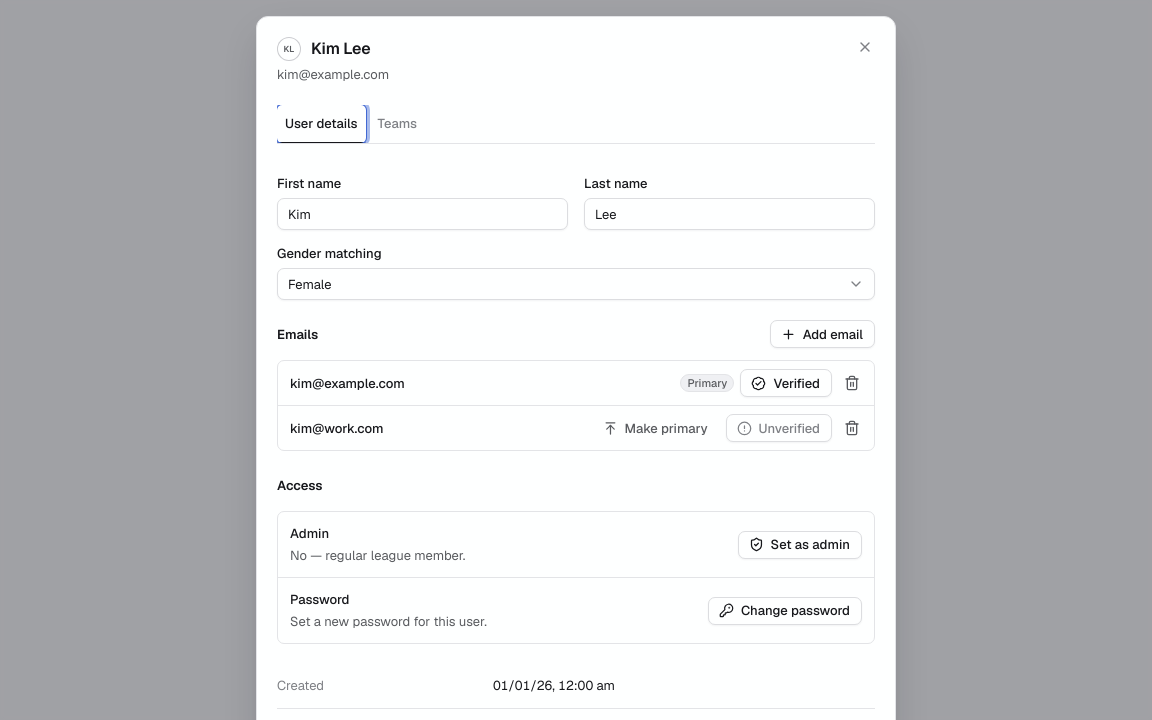
Test: UserDialog access › promotes a user to admin
expect the text "No — regular league member." is shown: met, box [290,547,466,564]
Click the button "Set as admin" at (800, 545), box [738,531,862,559]
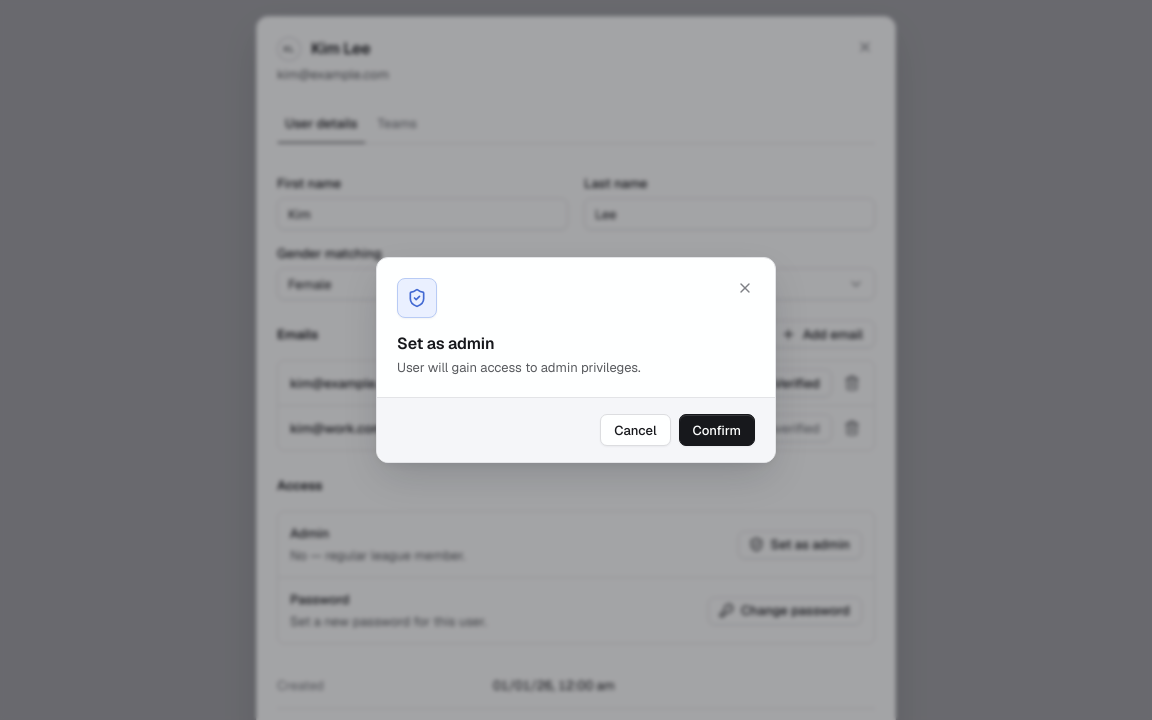
Click the button "Confirm" at (717, 430), box [679,414,755,446]
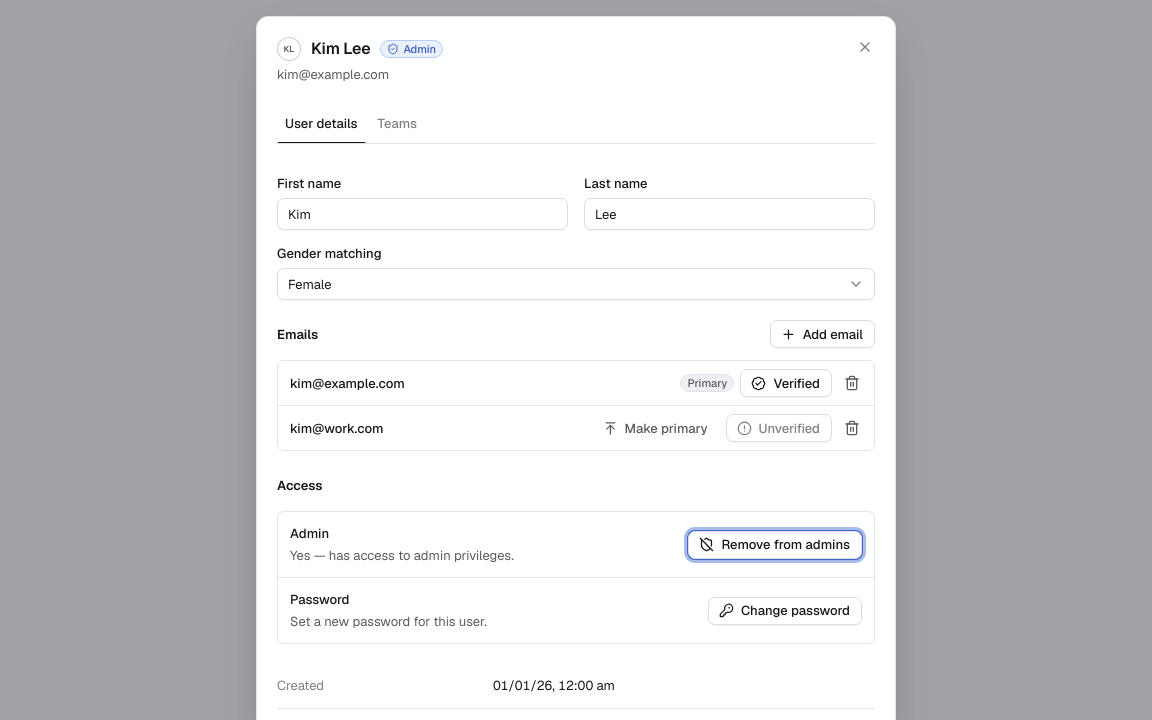
expect the text "Yes — has access to admin privileges." is shown: met, box [290,547,514,564]
expect the button "Remove from admins" is shown: met, box [688,531,862,559]
